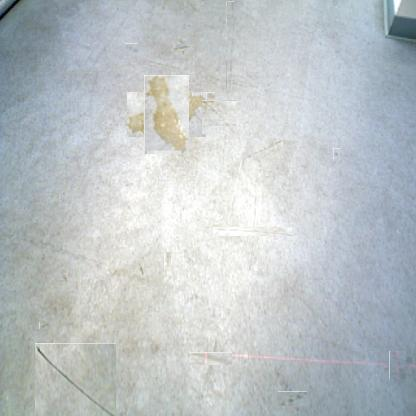liquid: (135, 84, 198, 146), (206, 92, 215, 99)
mark: (34, 343, 116, 416), (231, 209, 275, 254), (202, 100, 236, 134), (198, 345, 225, 373), (247, 138, 283, 158), (226, 1, 234, 89), (281, 388, 304, 410), (387, 354, 409, 377), (174, 40, 190, 54), (184, 1, 200, 15), (136, 258, 145, 276), (124, 43, 138, 54), (164, 252, 171, 271), (40, 321, 50, 330), (60, 272, 69, 282), (333, 148, 340, 159)
